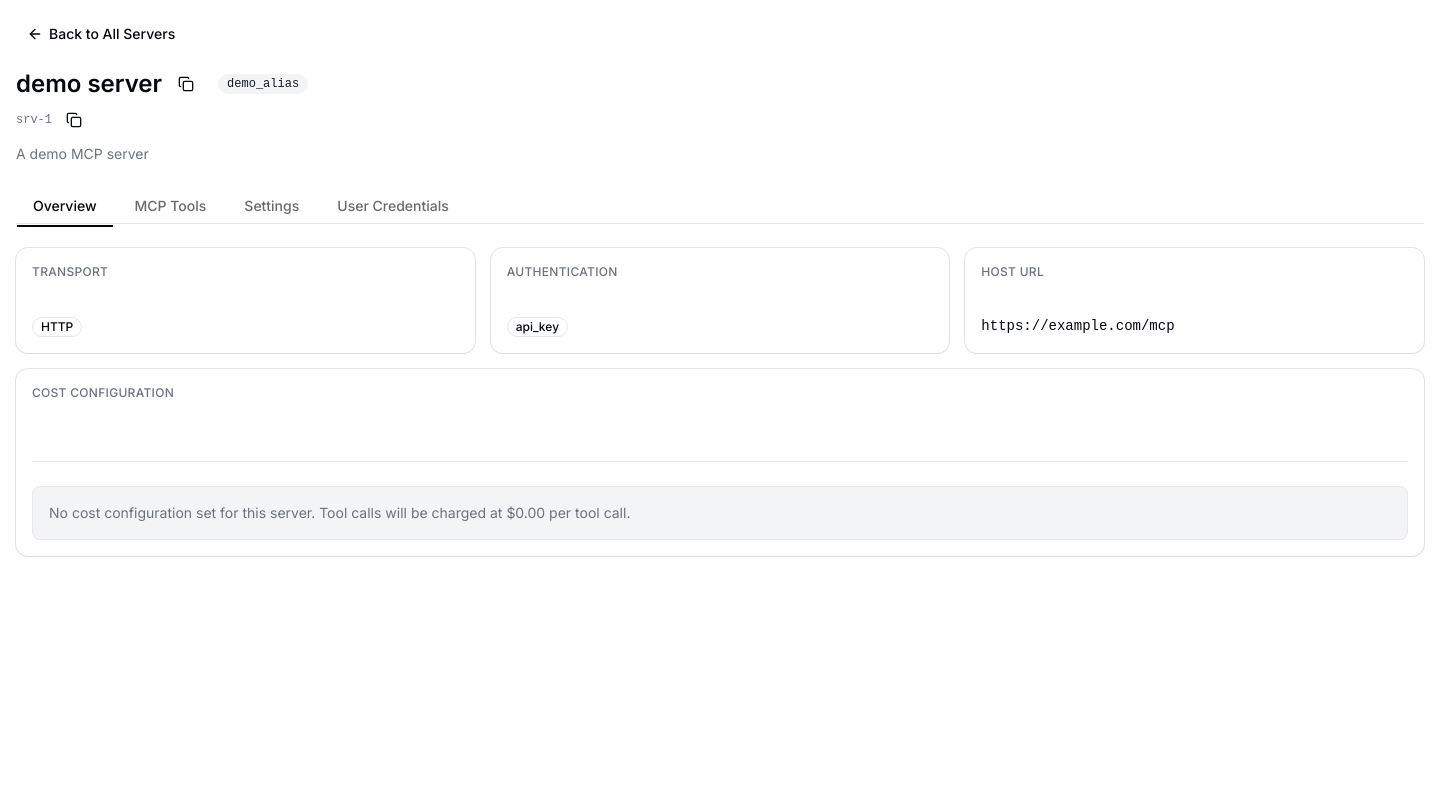
MCPServerView › keeps config settings read-only with isEditing=false
Click the tab "Settings": x=272, y=206 [227,188,316,222]
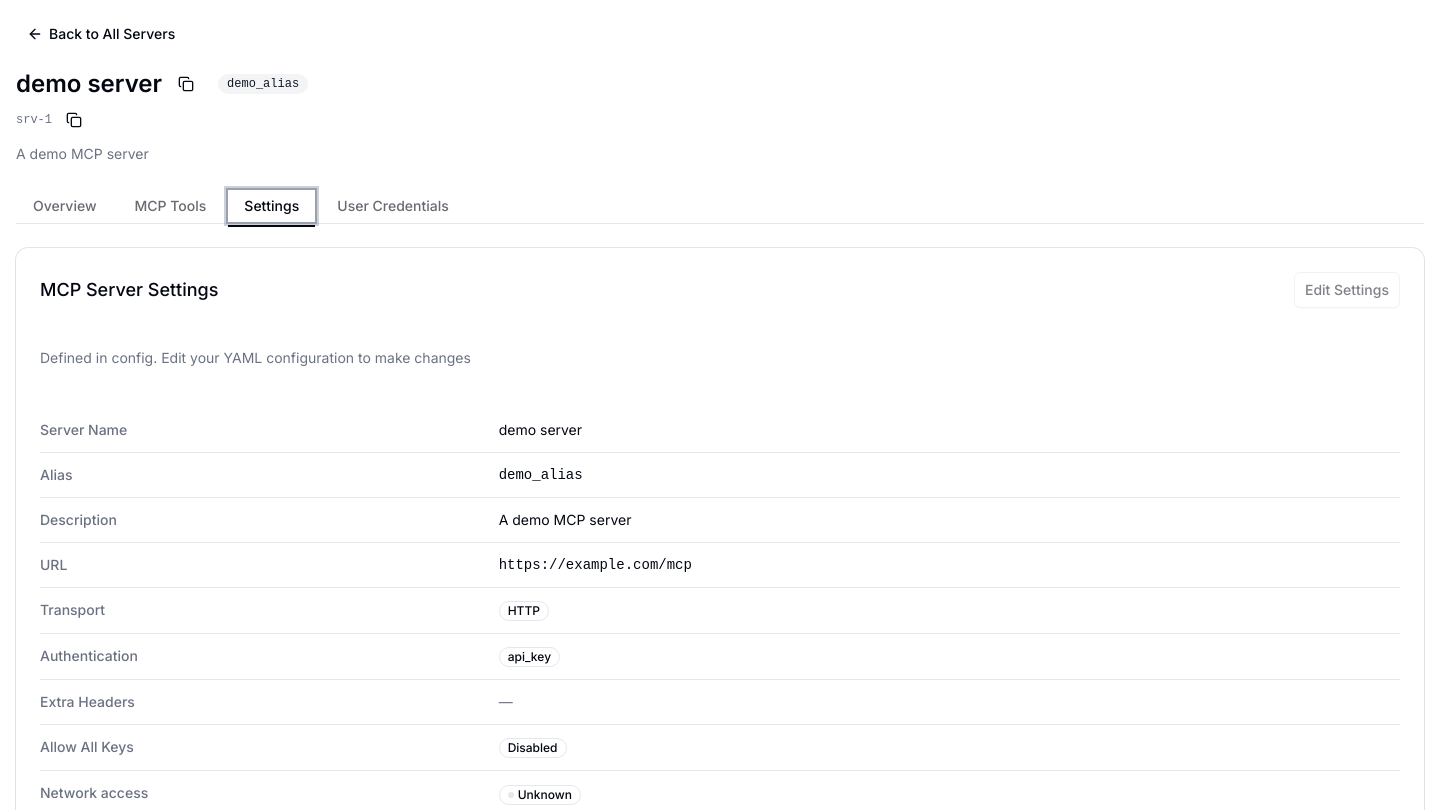
Now the button "Edit Settings" is disabled, box [1294,272,1400,308]
Now the text "Defined in config. Edit your YAML configuration to make changes" is shown, box [40,349,471,366]
